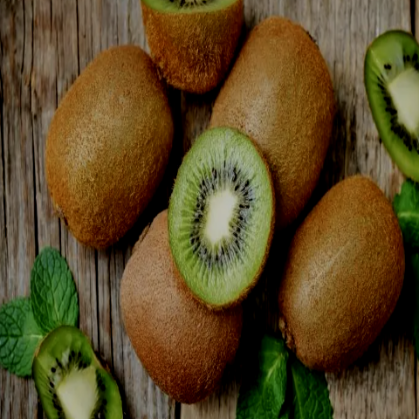kiwi: (197, 1, 338, 244), (37, 46, 192, 257), (107, 180, 250, 407), (277, 164, 419, 391)
